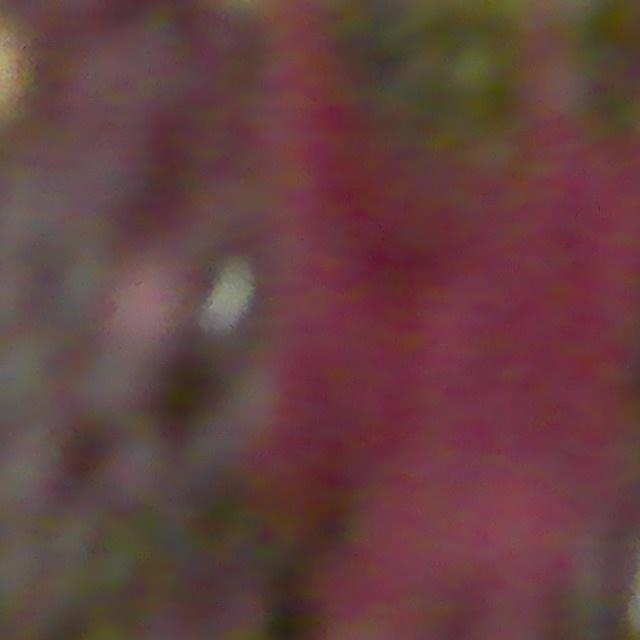SeaGrape: (446, 43, 504, 101)
